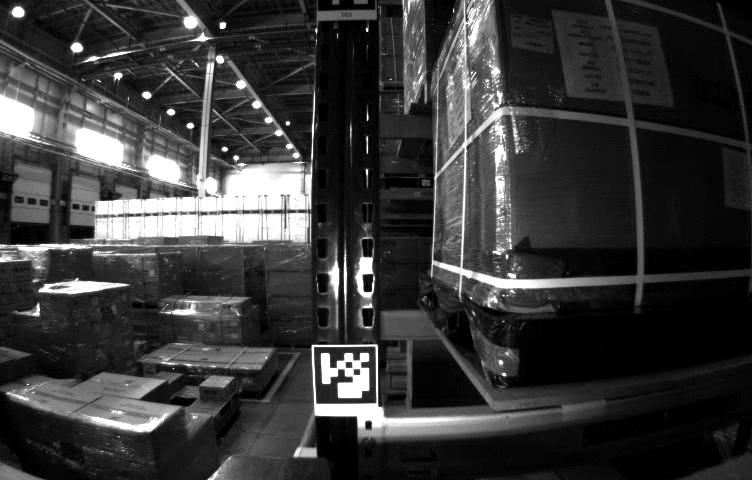True Barcode: (511, 9, 552, 56)
